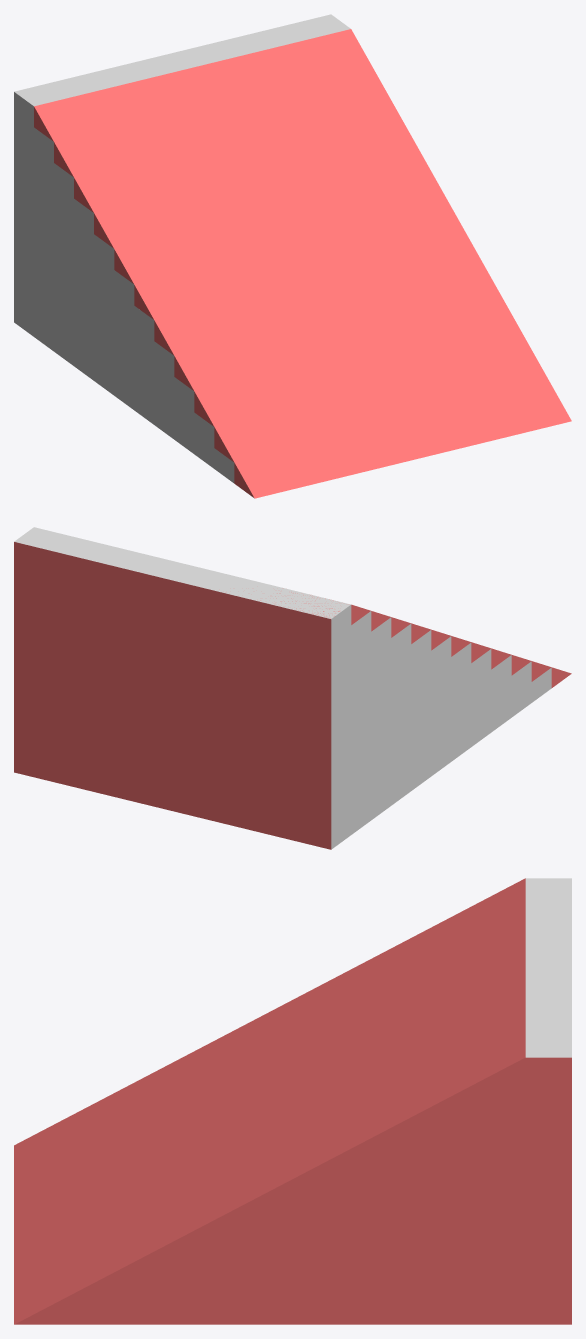
Rendered from prop_stairs_02.glb.
The picture shows the model from 3 angles, top to bottom: view 1: azimuth 30°, elevation 25°; view 2: azimuth 150°, elevation 25°; view 3: azimuth 270°, elevation 25°; orthographic projection. The views are drawn at different scales.
Visible parts, largest first — view 1: brush_ramp.001, prop_stairs_02; view 2: brush_box.008, prop_stairs_02, brush_ramp.001; view 3: brush_ramp.001, brush_box.008, prop_stairs_02.
Part boxes in pixels (x1=…): brush_ramp.001: x1=34, y1=29, x2=571, y2=498; prop_stairs_02: x1=14, y1=14, x2=350, y2=483; brush_box.008: x1=14, y1=542, x2=339, y2=849; prop_stairs_02: x1=14, y1=527, x2=551, y2=849; brush_ramp.001: x1=351, y1=604, x2=571, y2=687; brush_ramp.001: x1=14, y1=878, x2=525, y2=1324; brush_box.008: x1=525, y1=1057, x2=571, y2=1324; prop_stairs_02: x1=525, y1=878, x2=571, y2=1057.
Size of the model in its own units: 3.31 by 2.3 by 4.35.
